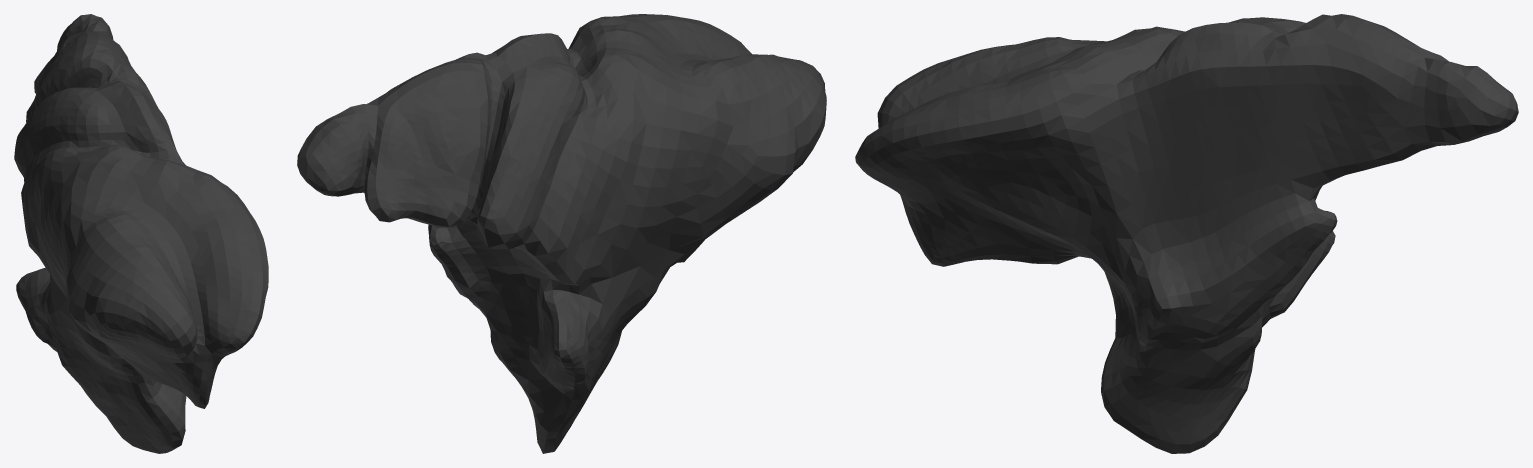
File: Frontal_sinus_R_lateral.glb
3 views of the same model, side by side, from view 1: azimuth 30°, elevation 25°; view 2: azimuth 150°, elevation 25°; view 3: azimuth 270°, elevation 25° (orthographic). The views are drawn at different scales.
Parts seen in each view (by area): view 1: Frontal_sinus_R_lateral; view 2: Frontal_sinus_R_lateral; view 3: Frontal_sinus_R_lateral.
Boxes of the visible parts, x1,y1,x2,y2 form: Frontal_sinus_R_lateral: (14, 14, 268, 453); Frontal_sinus_R_lateral: (297, 14, 826, 453); Frontal_sinus_R_lateral: (855, 14, 1518, 453).
Size of the model in its own units: 114 by 180 by 245.
1 material, 1 textured.
